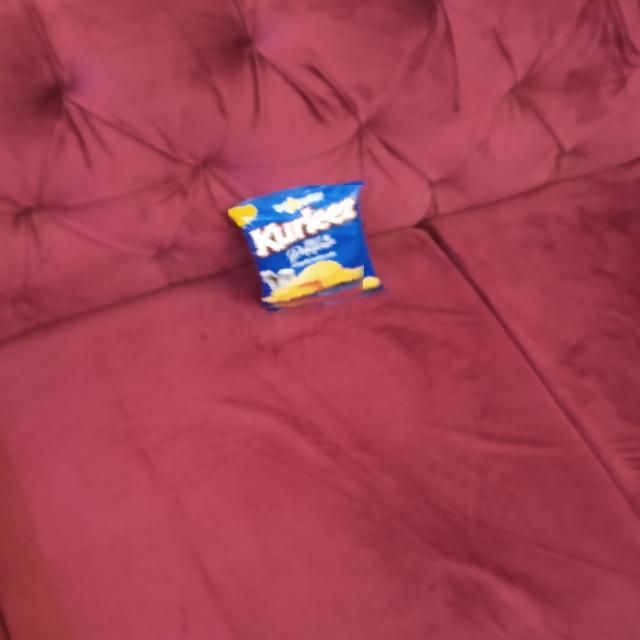Plastic: (228, 185, 369, 312)
